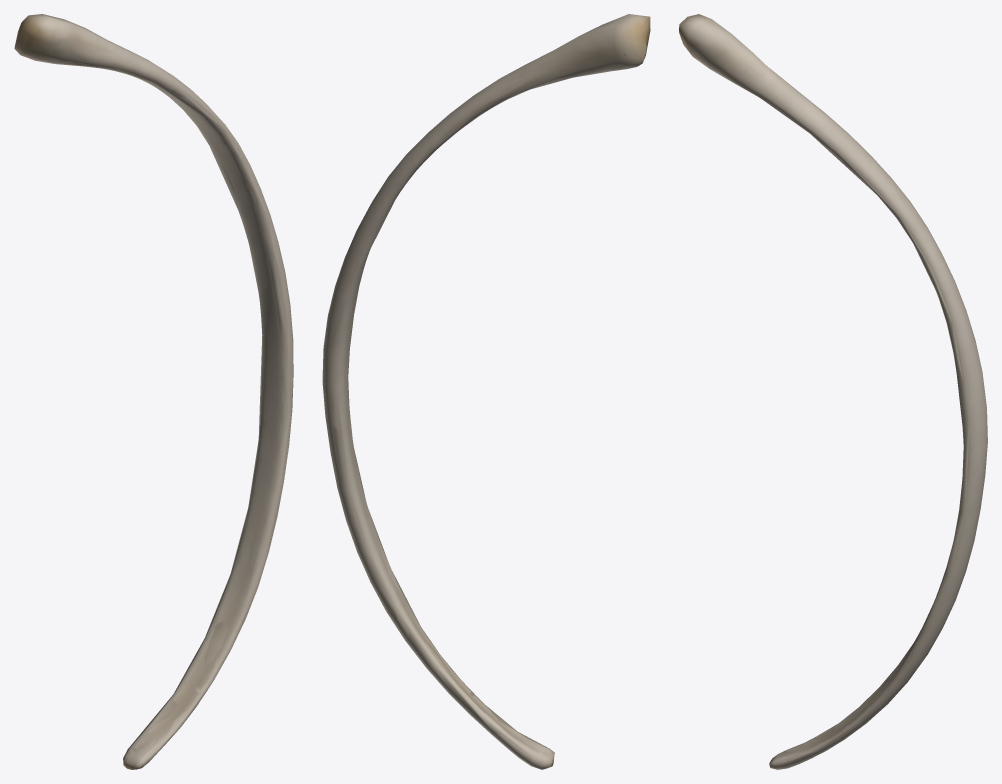
File: Rib L09.fbx
3 views of the same model, side by side, from view 1: azimuth 30°, elevation 25°; view 2: azimuth 150°, elevation 25°; view 3: azimuth 330°, elevation 25° (orthographic). The views are drawn at different scales.
Visible parts, largest first — view 1: Rib L09, Rib L09 high, Rib L09 low; view 2: Rib L09, Rib L09 low, Rib L09 high; view 3: Rib L09, Rib L09 low, Rib L09 high.
Part boxes in pixels (x1=…): Rib L09: x1=14, y1=14, x2=293, y2=769; Rib L09 high: x1=24, y1=18, x2=285, y2=767; Rib L09 low: x1=14, y1=14, x2=293, y2=769; Rib L09: x1=322, y1=14, x2=650, y2=769; Rib L09 low: x1=322, y1=15, x2=650, y2=767; Rib L09 high: x1=326, y1=23, x2=646, y2=761; Rib L09: x1=679, y1=14, x2=987, y2=769; Rib L09 low: x1=682, y1=17, x2=987, y2=769; Rib L09 high: x1=695, y1=26, x2=983, y2=767.
Bounding box in the file's own units: 7.59 × 18.88 × 2.24.
1 material, 1 textured.
